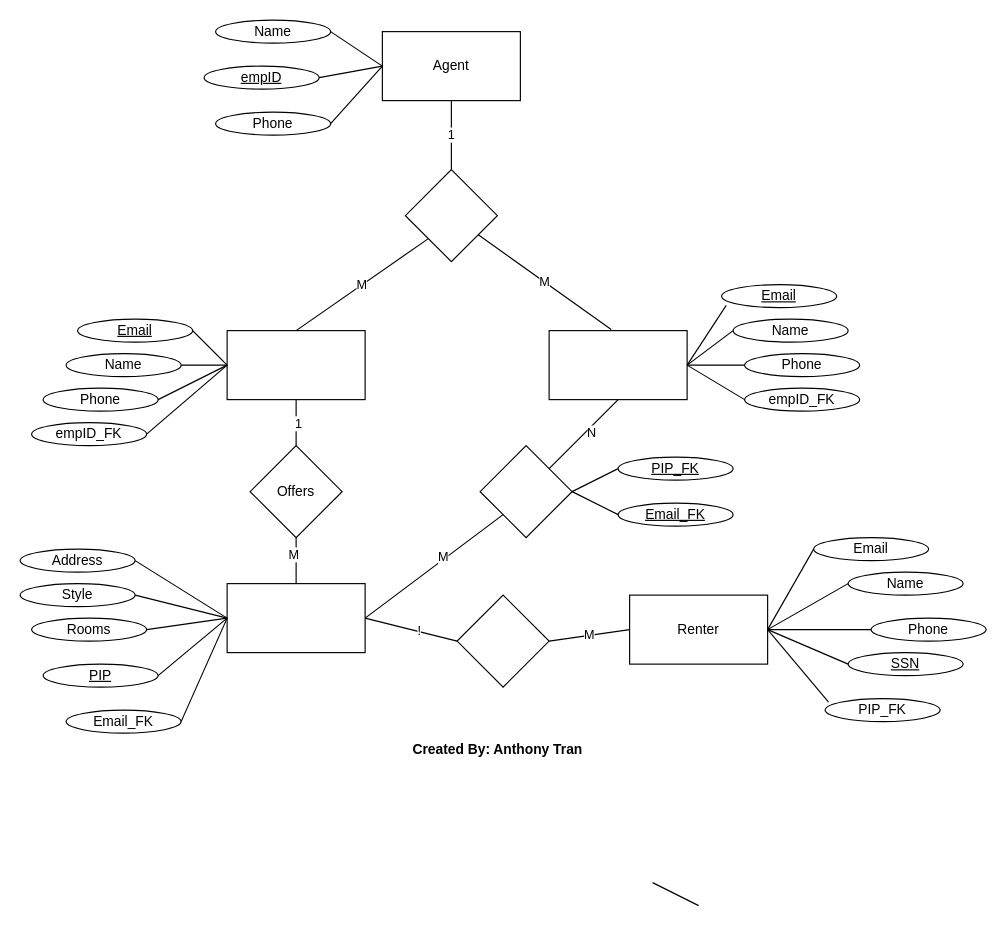
Some shapes in this 1006 by 927 pixel diagram are drawn without their labels. Each missing label, with the centre of its shape:
Assigned: pixel 450 215
Buyer: pixel 617 364
Property: pixel 295 617
Rents: pixel 502 640
Reviews: pixel 525 491
Seller: pixel 295 364
